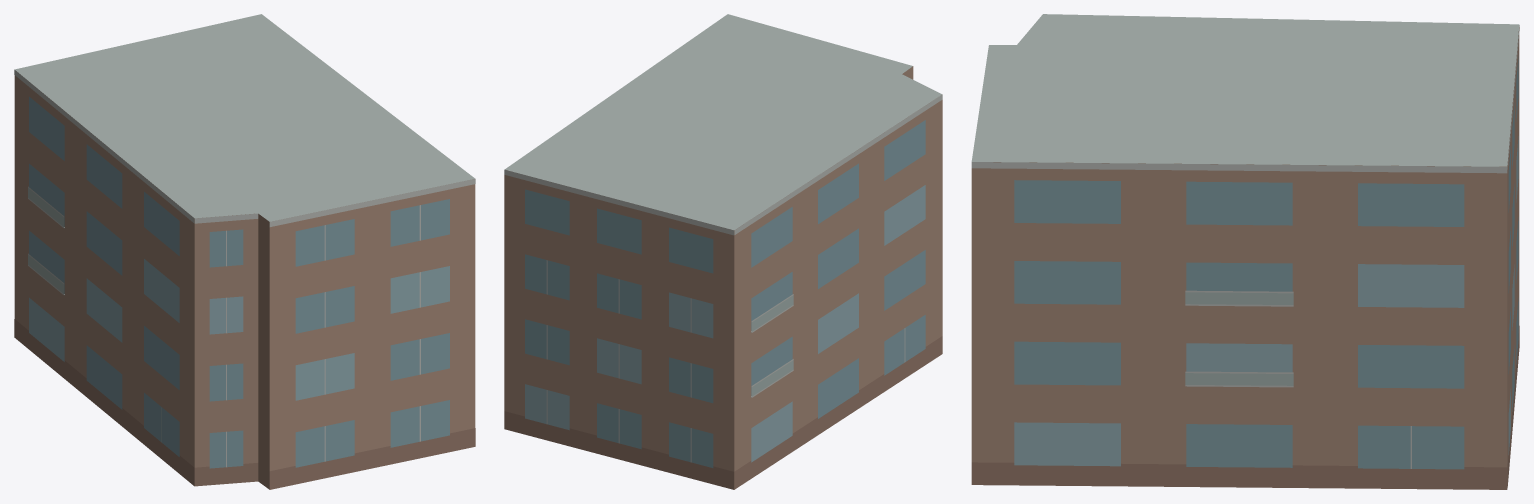
The model's file is survey-upis-32592941.glb.
3 views of the same model, side by side, from view 1: azimuth 30°, elevation 25°; view 2: azimuth 150°, elevation 25°; view 3: azimuth 270°, elevation 25° (orthographic). The views are drawn at different scales.
Parts seen in each view (by area): view 1: survey-upis-32592941.tmp; view 2: survey-upis-32592941.tmp; view 3: survey-upis-32592941.tmp.
Part boxes in pixels (x1,y1,x2,y2): survey-upis-32592941.tmp: (14, 14, 475, 489); survey-upis-32592941.tmp: (504, 14, 942, 489); survey-upis-32592941.tmp: (971, 14, 1519, 489).
Size of the model in its own units: 12.38 by 12.2 by 18.76.
